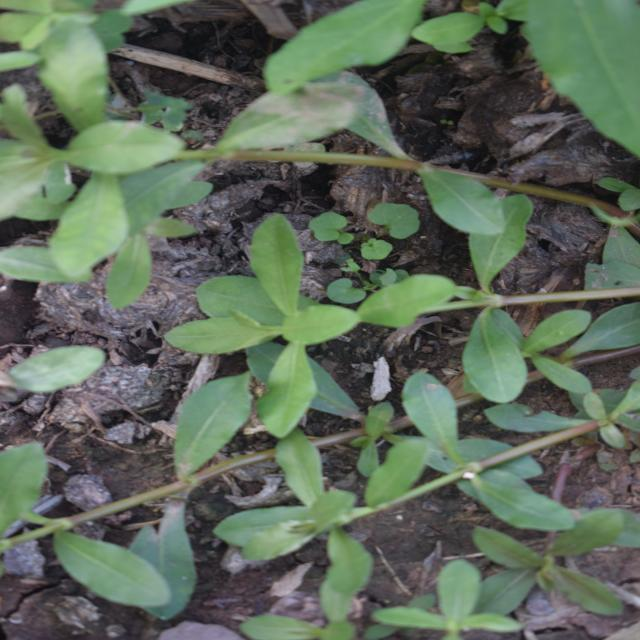Alligatorweed: (202, 91, 435, 487), (398, 94, 576, 418)
